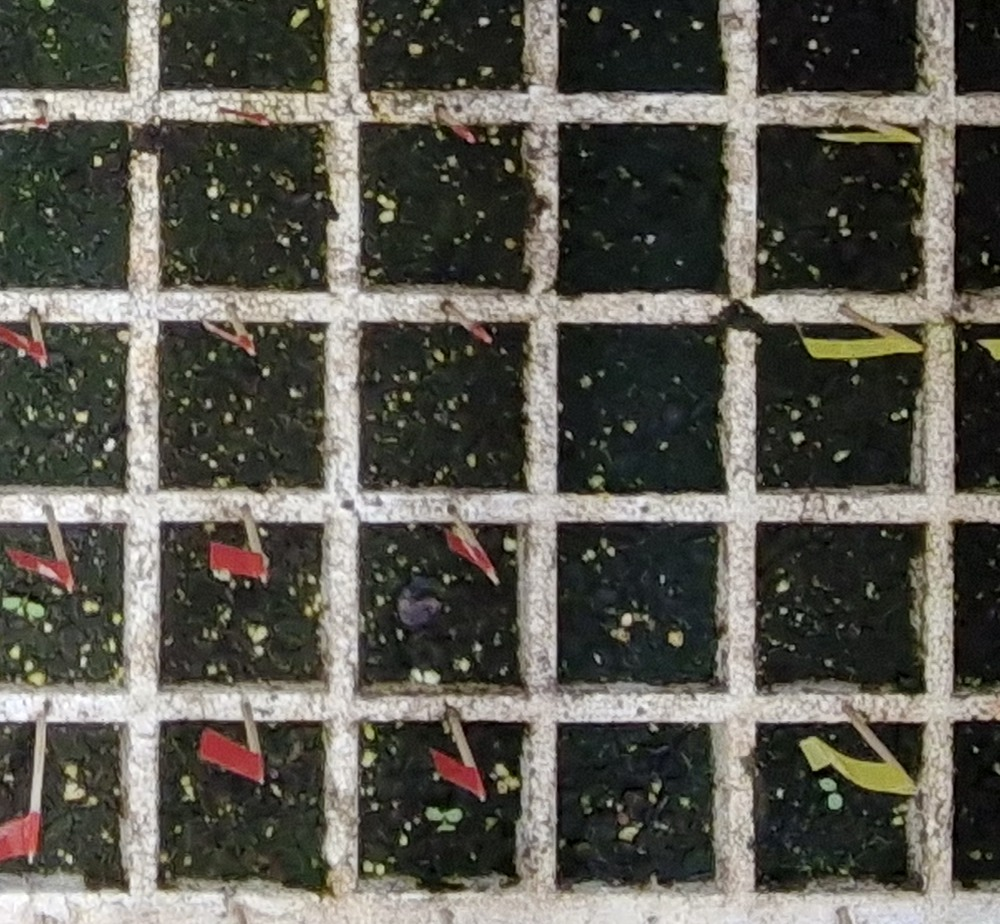Folha: (818, 777, 837, 792), (828, 793, 843, 809), (27, 602, 44, 616), (425, 807, 443, 820), (437, 820, 455, 832), (3, 596, 20, 608), (446, 809, 462, 820)
Germinacao: (2, 596, 45, 617), (426, 808, 463, 831), (819, 779, 843, 810), (27, 0, 55, 5)
